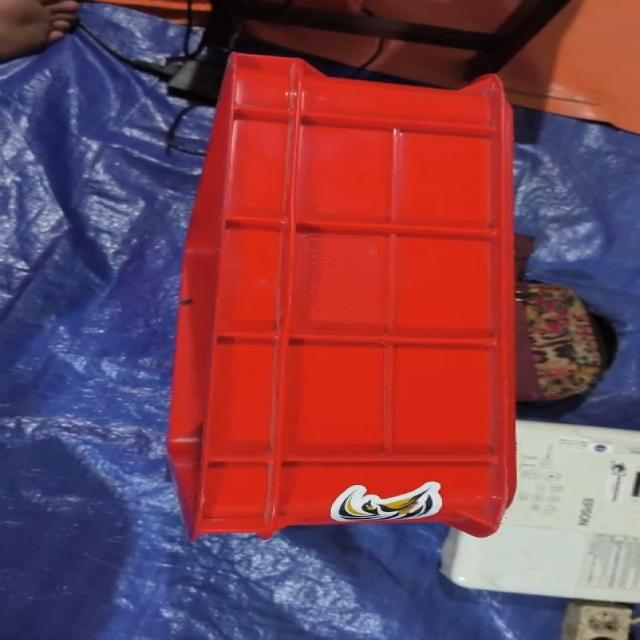red plastic box: (167, 52, 517, 541)
